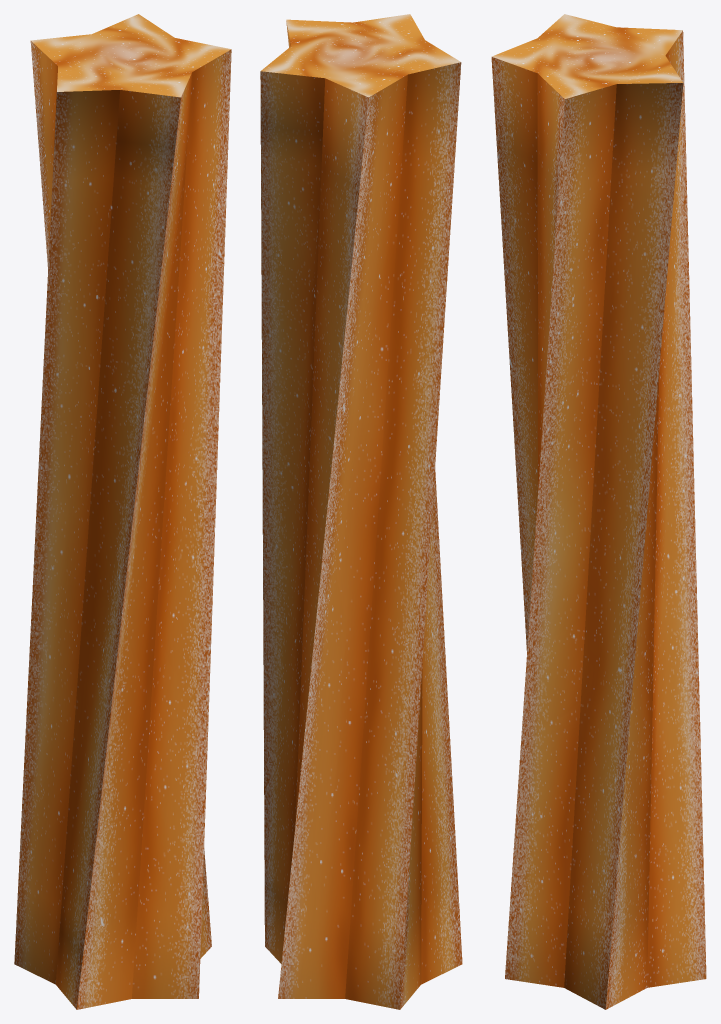
File: Churro.fbx
The picture shows the model from 3 angles, left to right: view 1: azimuth 30°, elevation 25°; view 2: azimuth 150°, elevation 25°; view 3: azimuth 270°, elevation 25°; orthographic projection.
Visible parts, largest first — view 1: pCylinder20; view 2: pCylinder20; view 3: pCylinder20.
Part boxes in pixels (left/top/right/bottom): pCylinder20: left=14, top=14, right=231, bottom=1009; pCylinder20: left=260, top=14, right=462, bottom=1009; pCylinder20: left=491, top=14, right=706, bottom=1009.
Bounding box in the file's own units: 6.3 × 31.26 × 6.69.
Materials: 1 (1 with a texture image).
